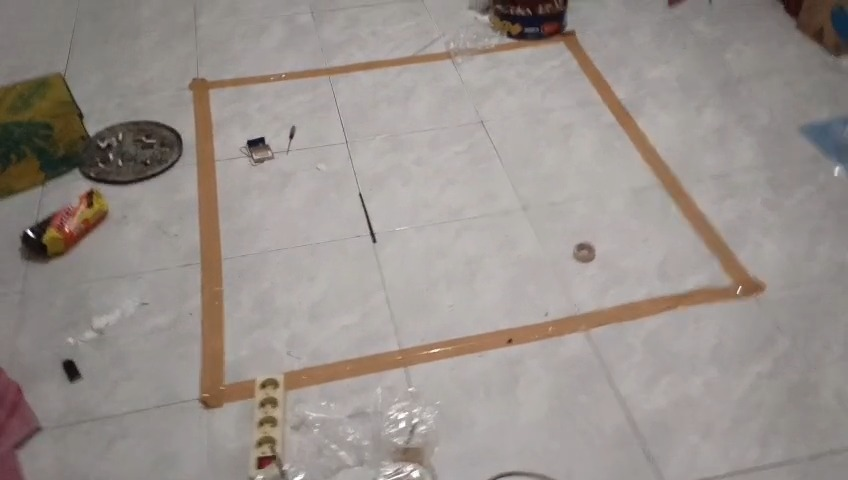floor marking: (283, 32, 765, 390), (191, 52, 452, 407)
